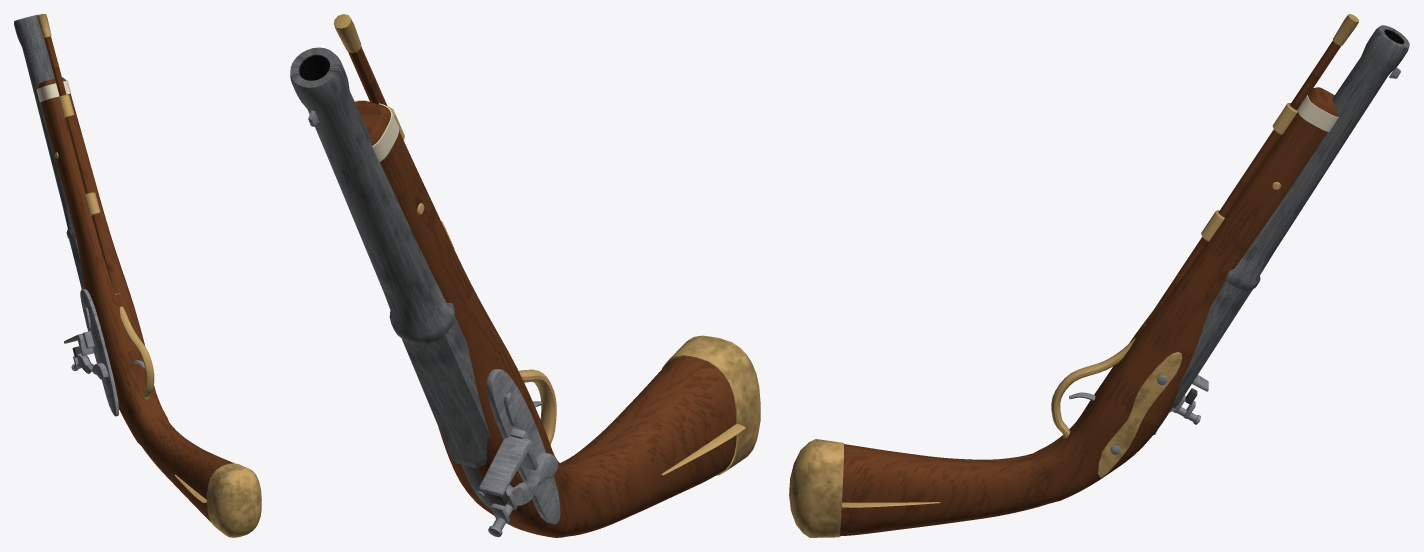
The model's file is pistol.glb.
3 renders of one model, left to right at view 1: azimuth 30°, elevation 25°; view 2: azimuth 150°, elevation 25°; view 3: azimuth 270°, elevation 25°, orthographic. The views are drawn at different scales.
Visible parts, largest first — view 1: pistol; view 2: pistol; view 3: pistol.
Part boxes in pixels (x1=…): pistol: x1=14, y1=14, x2=261, y2=537; pistol: x1=290, y1=14, x2=760, y2=537; pistol: x1=789, y1=14, x2=1409, y2=537.
Size of the model in its own units: 0.052 by 0.3307 by 0.3585.
Materials: 7 (4 with a texture image).
